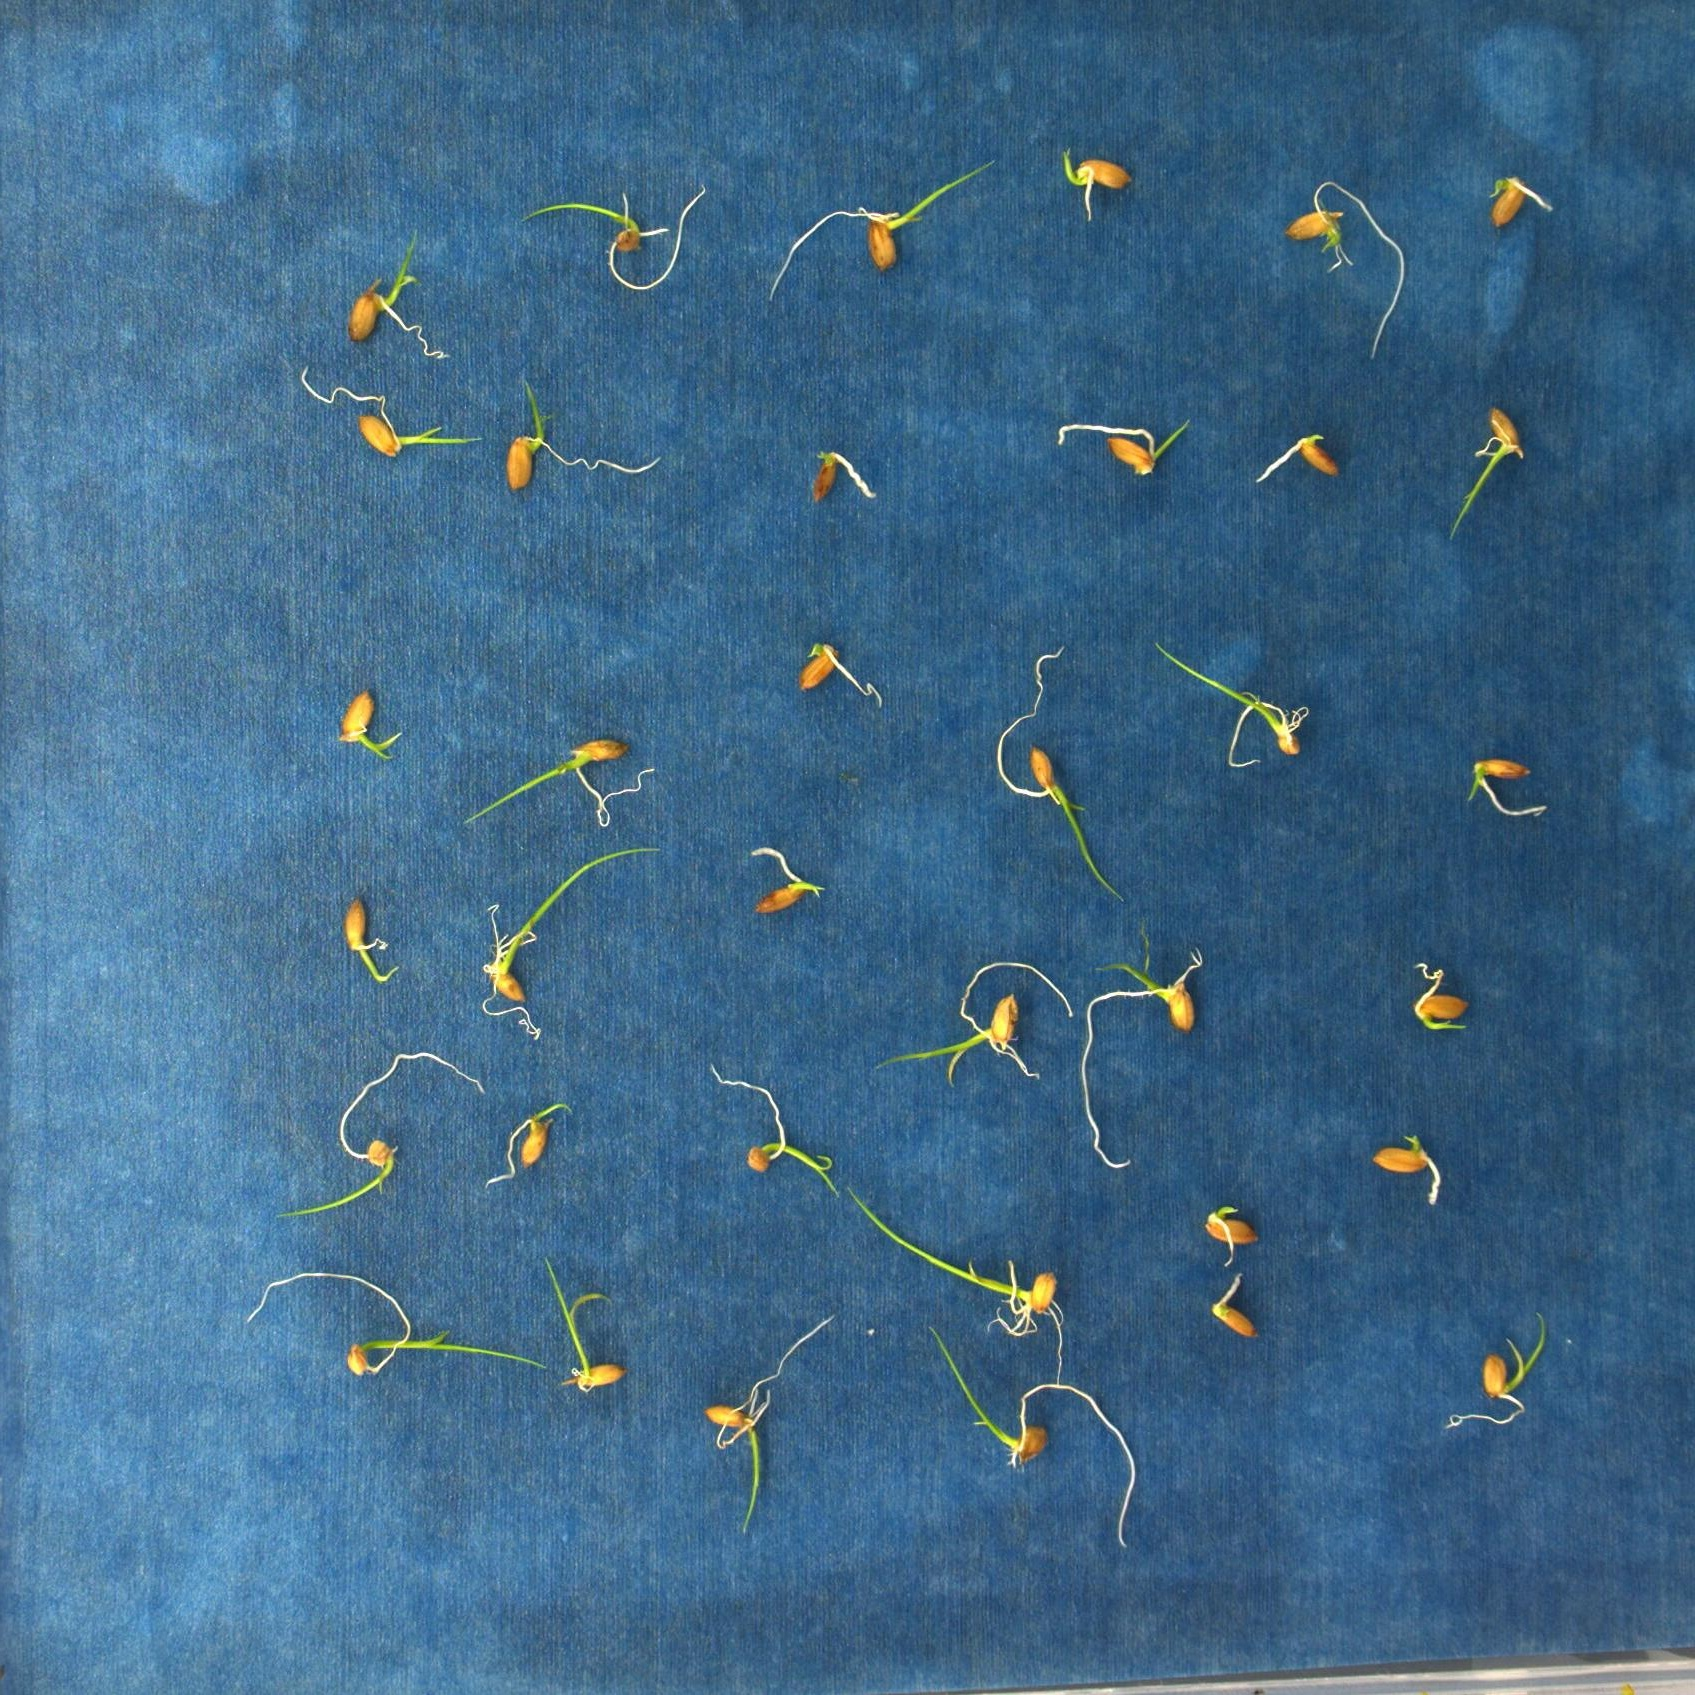not sprout: (799, 640, 886, 708), (1374, 1135, 1445, 1205), (1256, 432, 1335, 486), (809, 449, 879, 504), (1487, 175, 1554, 231), (1212, 1274, 1254, 1338)
sprout: (930, 1319, 1138, 1544), (844, 1183, 1063, 1381), (279, 1049, 487, 1223), (771, 157, 1000, 304), (486, 849, 660, 1042), (992, 646, 1119, 899), (248, 1271, 539, 1375), (705, 1315, 838, 1537), (1080, 936, 1205, 1173), (879, 961, 1076, 1090), (1287, 174, 1403, 362), (1153, 638, 1312, 768), (523, 183, 706, 295), (466, 736, 661, 829), (708, 1065, 840, 1198), (503, 380, 660, 492), (303, 365, 480, 452), (343, 225, 442, 362), (539, 1250, 626, 1394), (1447, 1313, 1548, 1433), (1450, 405, 1523, 537), (1059, 418, 1194, 480), (483, 1101, 576, 1189), (1062, 149, 1138, 220), (747, 844, 823, 914), (338, 686, 407, 762), (1465, 756, 1544, 820), (1412, 956, 1471, 1035), (348, 896, 397, 979), (1203, 1201, 1254, 1268)
